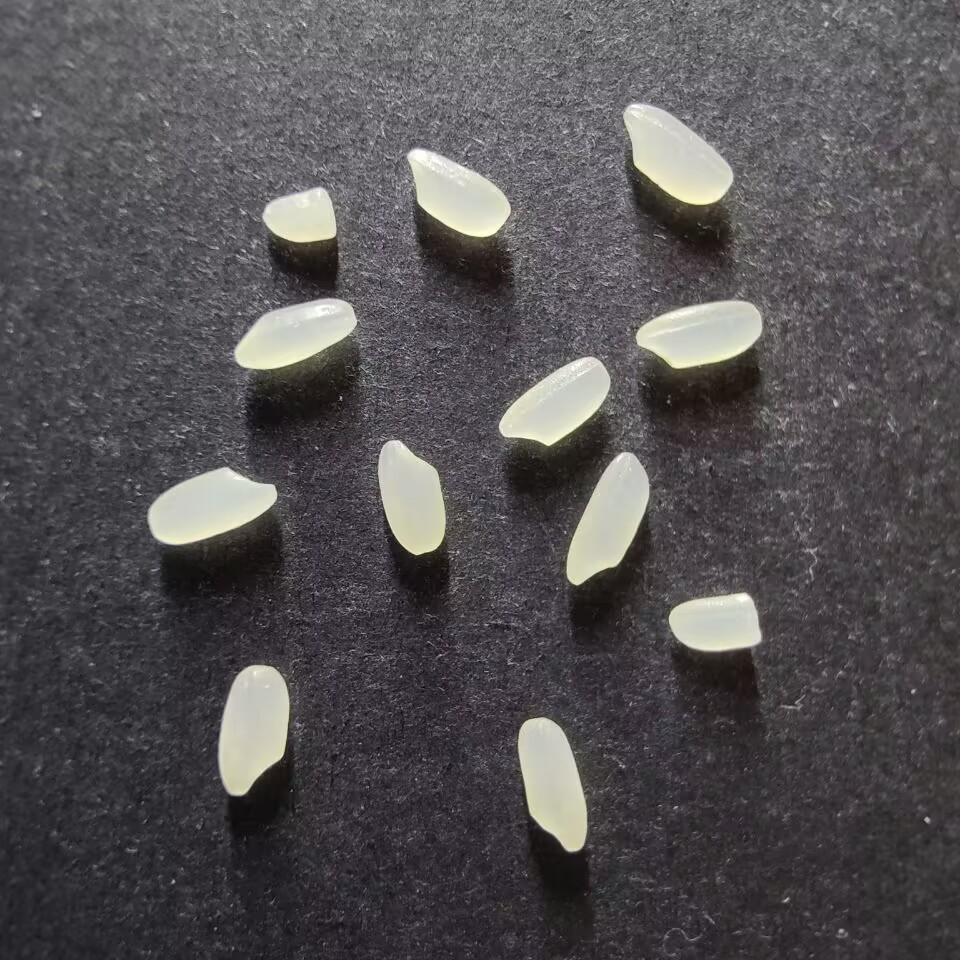broken: (667, 592, 762, 652), (262, 187, 337, 242)
rice: (621, 103, 734, 205), (566, 450, 650, 586), (146, 465, 277, 545), (497, 357, 610, 446), (517, 716, 588, 853), (217, 663, 289, 796), (405, 148, 511, 237), (634, 300, 762, 370), (234, 298, 357, 369), (376, 439, 446, 555)
